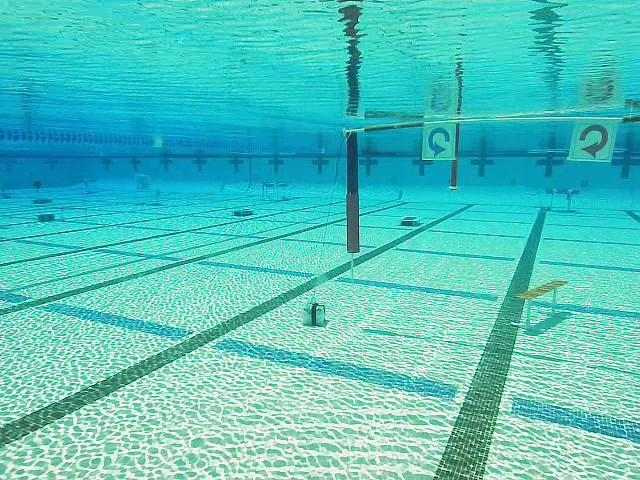dropper: (400, 212, 420, 226), (232, 205, 253, 218)
gate_blue: (422, 125, 455, 160)
gate_leg_l: (345, 128, 360, 254)
gate_red: (570, 121, 616, 163)
table: (544, 187, 580, 215), (262, 180, 290, 199)
torpedo: (133, 173, 152, 193)
